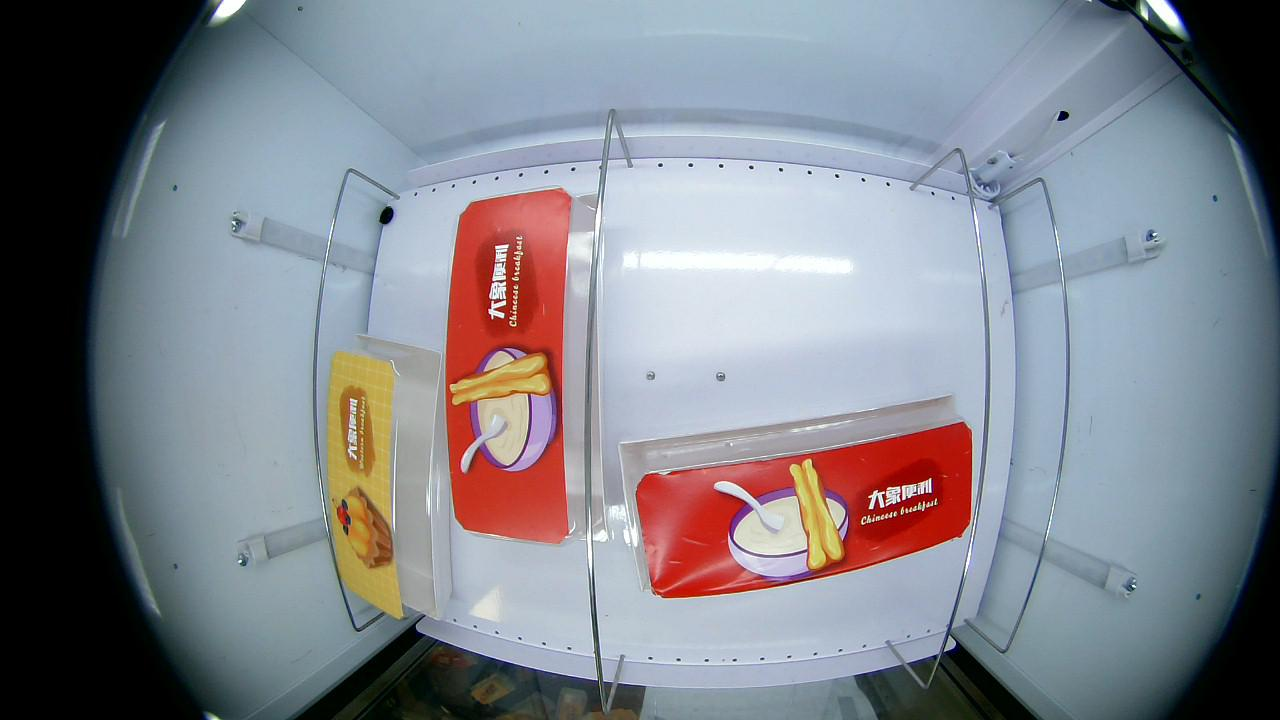goods: (713, 465, 852, 585), (444, 343, 559, 476), (330, 480, 395, 575)
